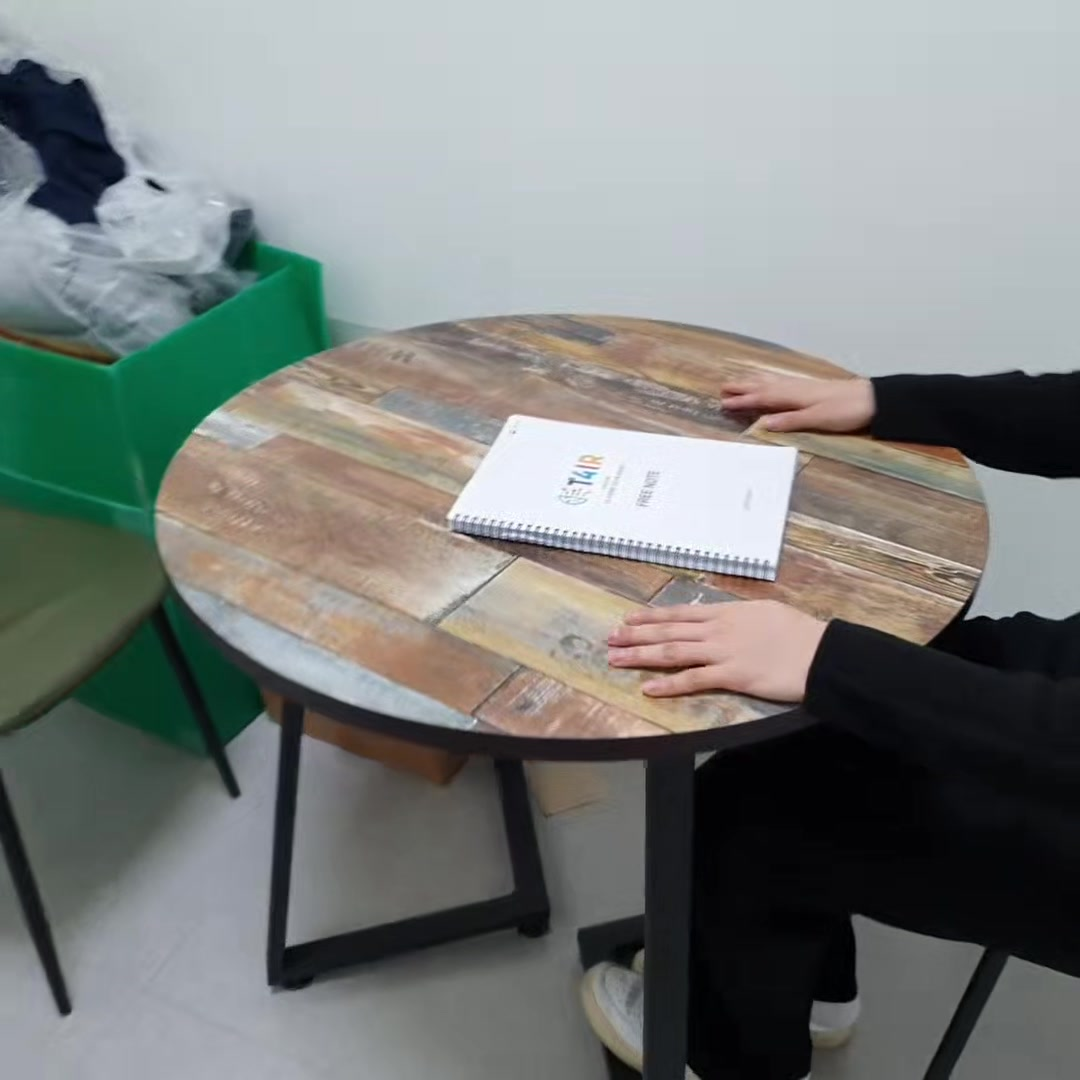book: (445, 407, 812, 588)
